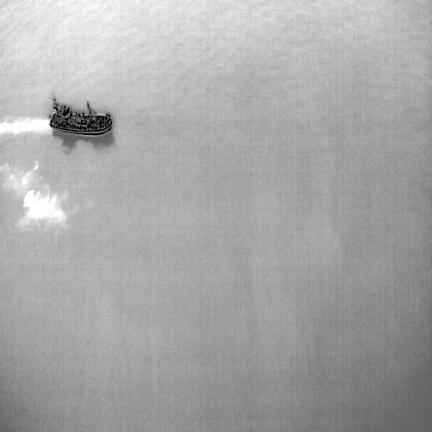flukeprints: (20, 190, 65, 225)
